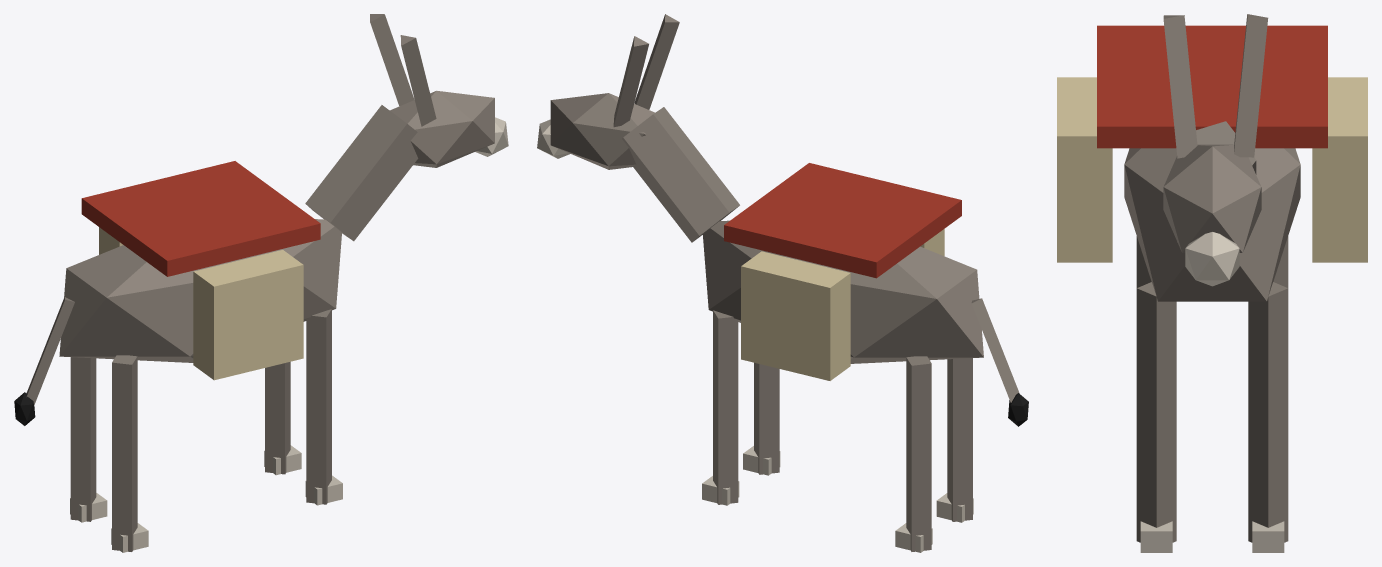
Rendered from asna.glb.
3 views of the same model, side by side, from view 1: azimuth 30°, elevation 25°; view 2: azimuth 150°, elevation 25°; view 3: azimuth 270°, elevation 25° (orthographic). The views are drawn at different scales.
Parts seen in each view (by area): view 1: asna; view 2: asna; view 3: asna.
Part boxes in pixels (box(x1,y1,x2,y2)): asna: box(14, 14, 508, 552); asna: box(537, 14, 1028, 552); asna: box(1057, 14, 1367, 552).
Bounding box in the file's own units: 1.92 × 1.63 × 0.78.
